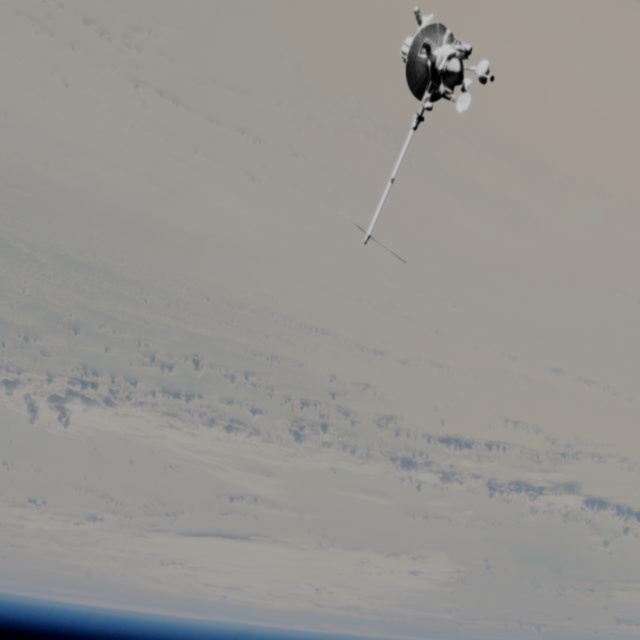satellite: (349, 1, 509, 259)
